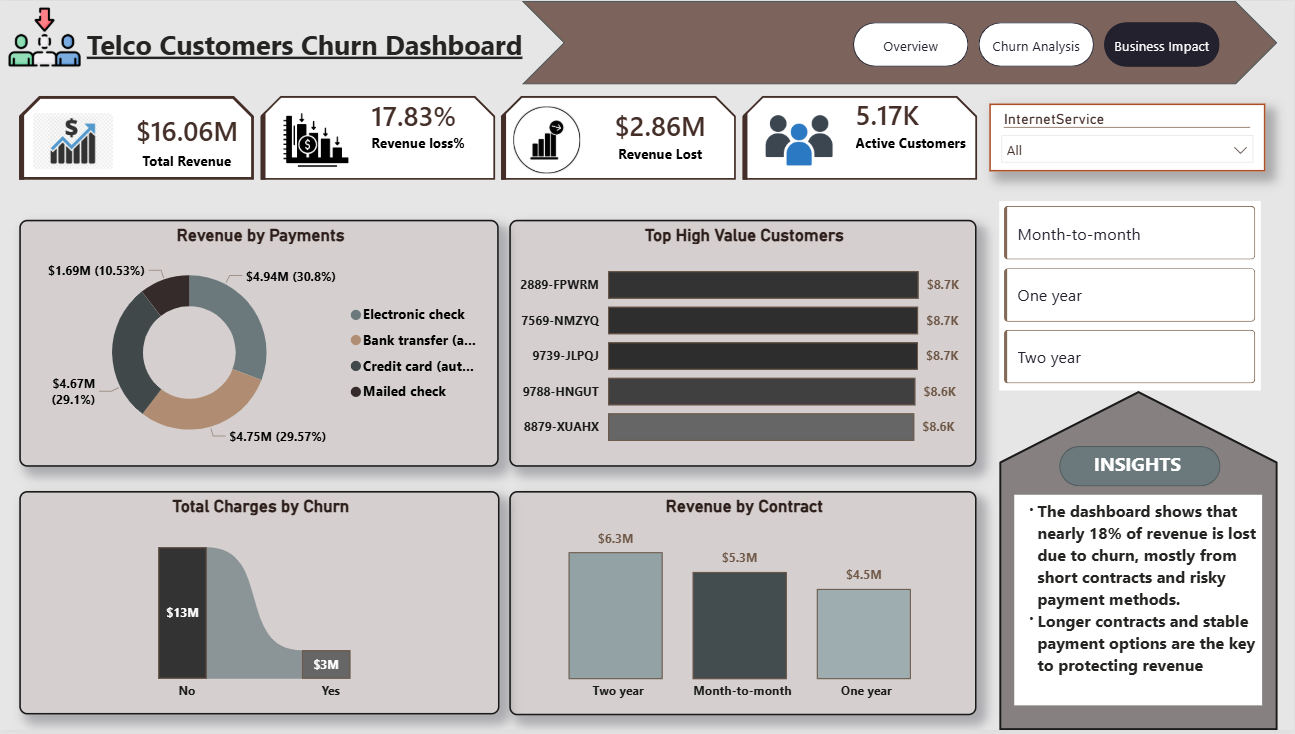

The page's visual inventory and layout, read from the dashboard file:
{"tool":"powerbi","page":{"name":"Business Impact","canvas":[1280,720],"ordinal":2},"visuals":[{"type":"cardVisual","fields":{"Data":["fact_subscriptions.Total Revenue","fact_subscriptions.Revenue loss%","fact_subscriptions.Revenue Lost","fact_subscriptions.Active Customers"]},"box":[0,72.5,988.8,125],"z":0},{"type":"textbox","box":[82.5,20,460,52.5],"z":1000},{"type":"image","box":[0,0,91.2,71.2],"z":2000},{"type":"shape","box":[517.5,0,746.2,82.5],"z":3000},{"type":"columnChart","title":"Revenue by Contract","fields":{"Category":["dim_contract.Contract"],"Y":["fact_subscriptions.Total Revenue"]},"box":[505,483.8,461.2,221.2],"z":4000},{"type":"barChart","title":"Top High Value Customers","fields":{"Y":["fact_subscriptions.Total Revenue"],"Category":["dim_contract.customerID"]},"box":[505,216.2,461.2,243.8],"z":5000},{"type":"donutChart","title":"Revenue by Payments","fields":{"Y":["fact_subscriptions.Total Revenue"],"Category":["dim_contract.PaymentMethod"]},"box":[21.2,216.2,473.8,243.8],"z":6000},{"type":"advancedSlicerVisual","fields":{"Values":["dim_contract.Contract"]},"box":[988.8,197.5,258.8,187.5],"z":7000},{"type":"slicer","fields":{"Values":["dim_services.InternetService"]},"box":[978.8,101.2,272.5,67.5],"z":8000},{"type":"shape","box":[988.8,385,275,335],"z":9000},{"type":"ribbonChart","title":"Total Charges by Churn","fields":{"Category":["fact_subscriptions.Churn"],"Y":["Sum(fact_subscriptions.TotalCharges)"]},"box":[20.5,483.8,474.1,220.8],"z":10000},{"type":"pageNavigator","box":[844.5,20.5,363.1,44.6],"z":11000},{"type":"shape","box":[1048.4,439.1,159.3,39.8],"z":11001},{"type":"textbox","box":[1003.9,487.9,244.6,207.9],"z":11002},{"type":"textbox","box":[1070.1,439.1,109.8,39.8],"z":11003}]}

Visuals, with their boxes in screenshot pixels (x1, y1, x2, y2), scaled from the page's 1280x720 canvas onto the 1295x734 screenshot:
cardVisual - fact_subscriptions.Total Revenue x fact_subscriptions.Revenue loss%: bbox(0, 74, 1000, 201)
textbox: bbox(83, 20, 549, 74)
image: bbox(0, 0, 92, 73)
shape: bbox(524, 0, 1279, 84)
"Revenue by Contract" columnChart: bbox(511, 493, 978, 719)
"Top High Value Customers" barChart: bbox(511, 220, 978, 469)
"Revenue by Payments" donutChart: bbox(21, 220, 501, 469)
advancedSlicerVisual - dim_contract.Contract: bbox(1000, 201, 1262, 392)
slicer - dim_services.InternetService: bbox(990, 103, 1266, 172)
shape: bbox(1000, 392, 1279, 733)
"Total Charges by Churn" ribbonChart: bbox(21, 493, 500, 718)
pageNavigator: bbox(854, 21, 1222, 66)
shape: bbox(1061, 448, 1222, 488)
textbox: bbox(1016, 497, 1263, 709)
textbox: bbox(1083, 448, 1194, 488)
